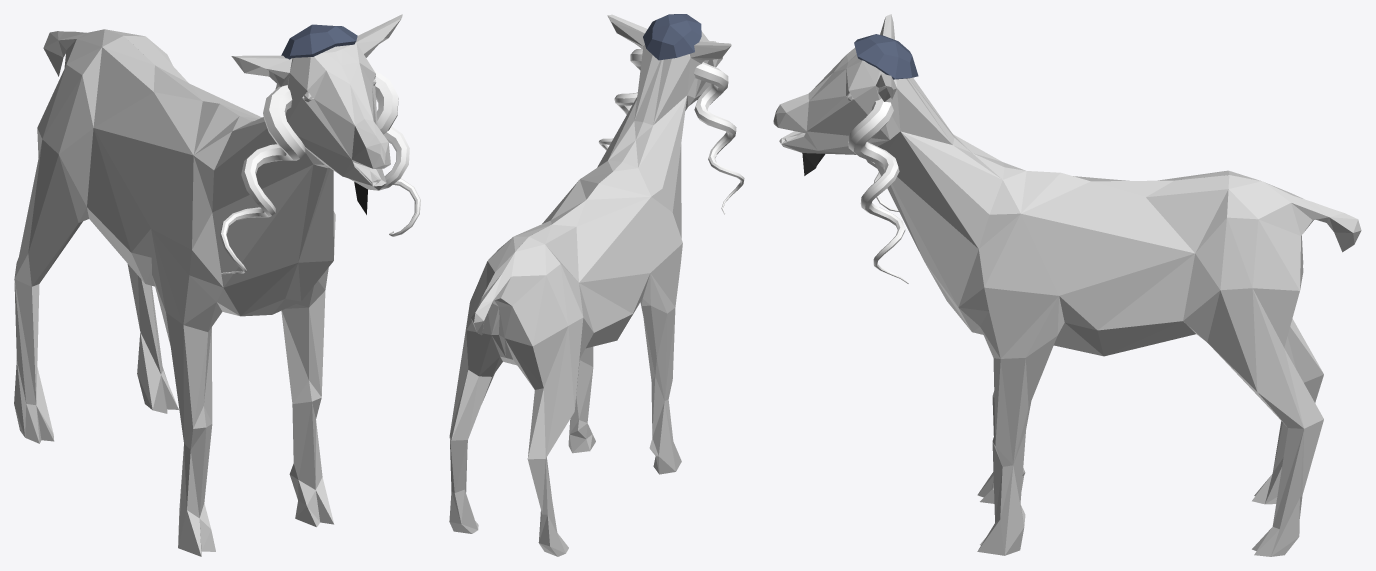
File: The GOAT.fbx
The picture shows the model from 3 angles, left to right: view 1: azimuth 30°, elevation 25°; view 2: azimuth 150°, elevation 25°; view 3: azimuth 270°, elevation 25°; orthographic projection. The views are drawn at different scales.
Visible parts, largest first — view 1: instance_3_instance_2_instance_2Shape2, MASH1_ReproMesh2, MASH1_ReproMesh1, pPlatonic1; view 2: instance_3_instance_2_instance_2Shape2, MASH1_ReproMesh2, pPlatonic1, MASH1_ReproMesh1; view 3: instance_3_instance_2_instance_2Shape2, MASH1_ReproMesh1, pPlatonic1.
Part boxes in pixels (left/top/right/bottom): instance_3_instance_2_instance_2Shape2: left=14, top=14, right=402, bottom=556; MASH1_ReproMesh2: left=220, top=85, right=305, bottom=274; MASH1_ReproMesh1: left=374, top=70, right=420, bottom=236; pPlatonic1: left=281, top=24, right=357, bottom=59; instance_3_instance_2_instance_2Shape2: left=449, top=14, right=731, bottom=556; MASH1_ReproMesh2: left=694, top=62, right=744, bottom=214; pPlatonic1: left=643, top=14, right=701, bottom=60; MASH1_ReproMesh1: left=598, top=48, right=642, bottom=150; instance_3_instance_2_instance_2Shape2: left=773, top=14, right=1361, bottom=556; MASH1_ReproMesh1: left=848, top=98, right=908, bottom=283; pPlatonic1: left=854, top=34, right=918, bottom=79.
Bounding box in the file's own units: 42.73 × 117 × 127.
